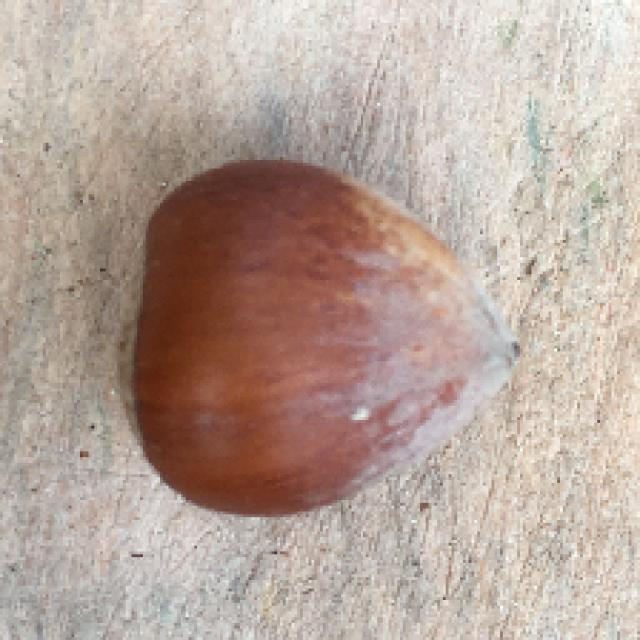QualityHazelnut: (112, 158, 522, 517)
